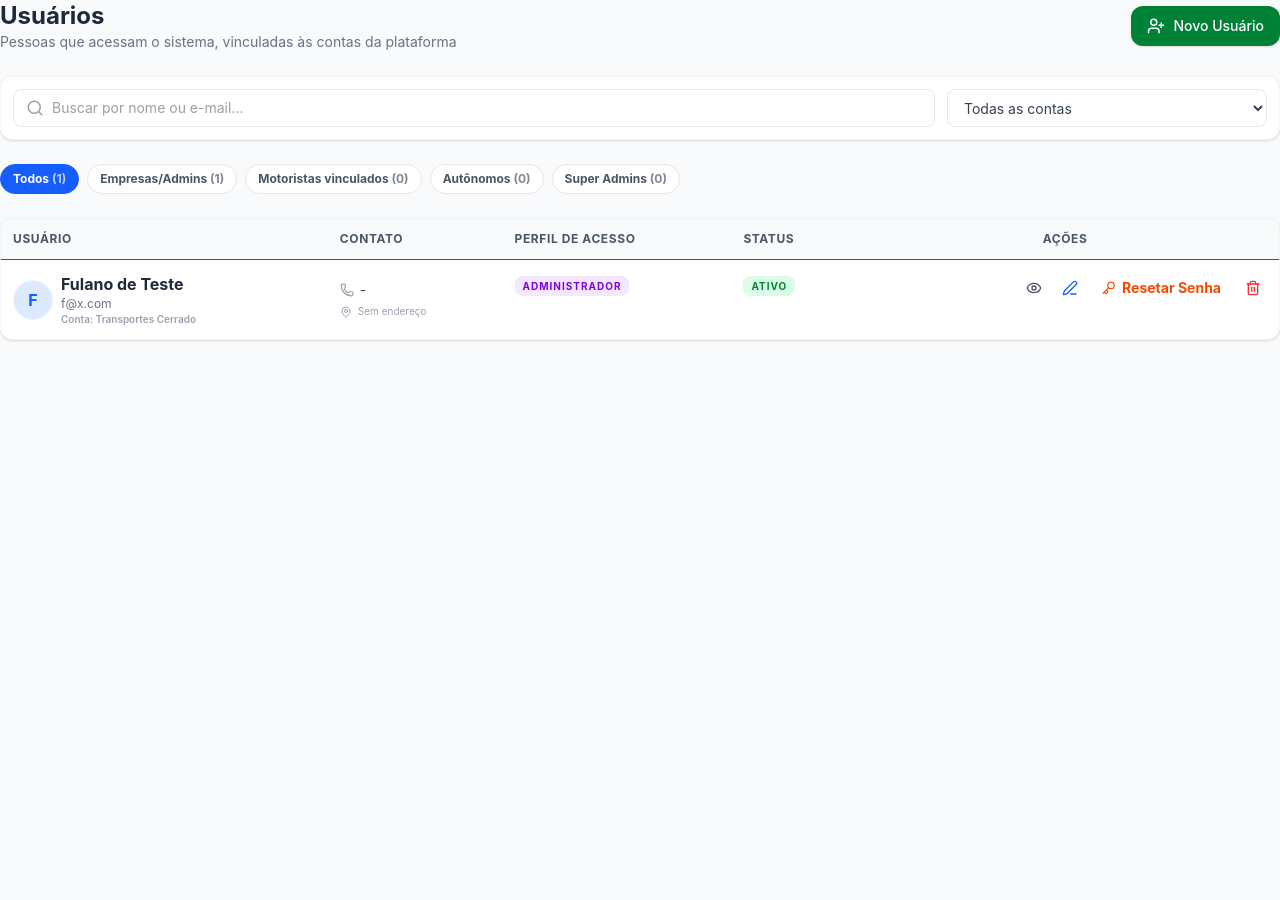
Usuarios — correção da aceitação visual › TEAM-VIS-01: digitar mostra resultados filtrados; escolher fecha a lista
Expected: the text "Fulano de Teste" is shown, [61, 272, 196, 296]
Click the button "Novo Usuário".
click(1206, 26)  # box [1132, 6, 1279, 46]
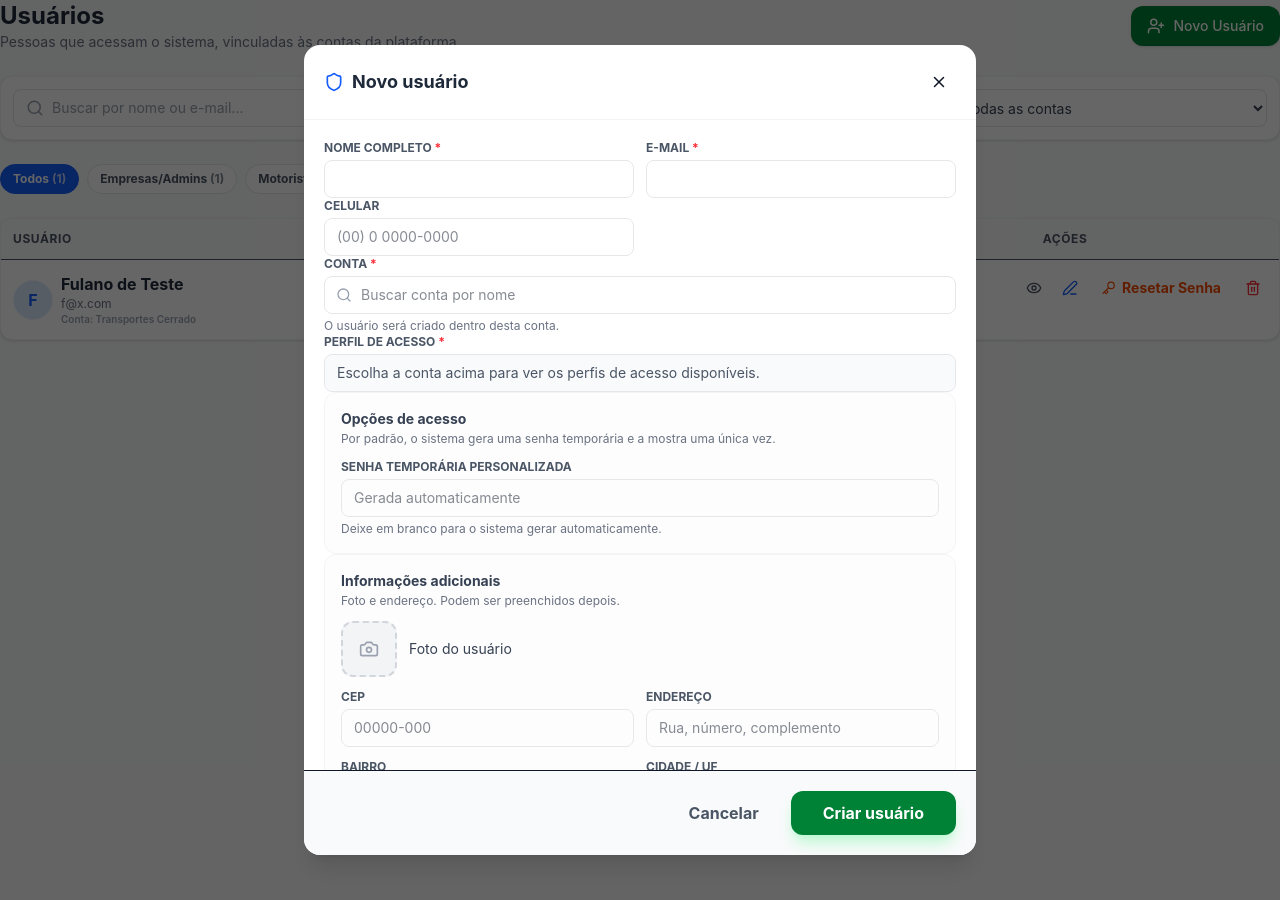
Type "cerrado" into the dropdown labelled "Buscar conta por nome".
click(640, 295); type("cerrado")  # box [324, 276, 956, 314]
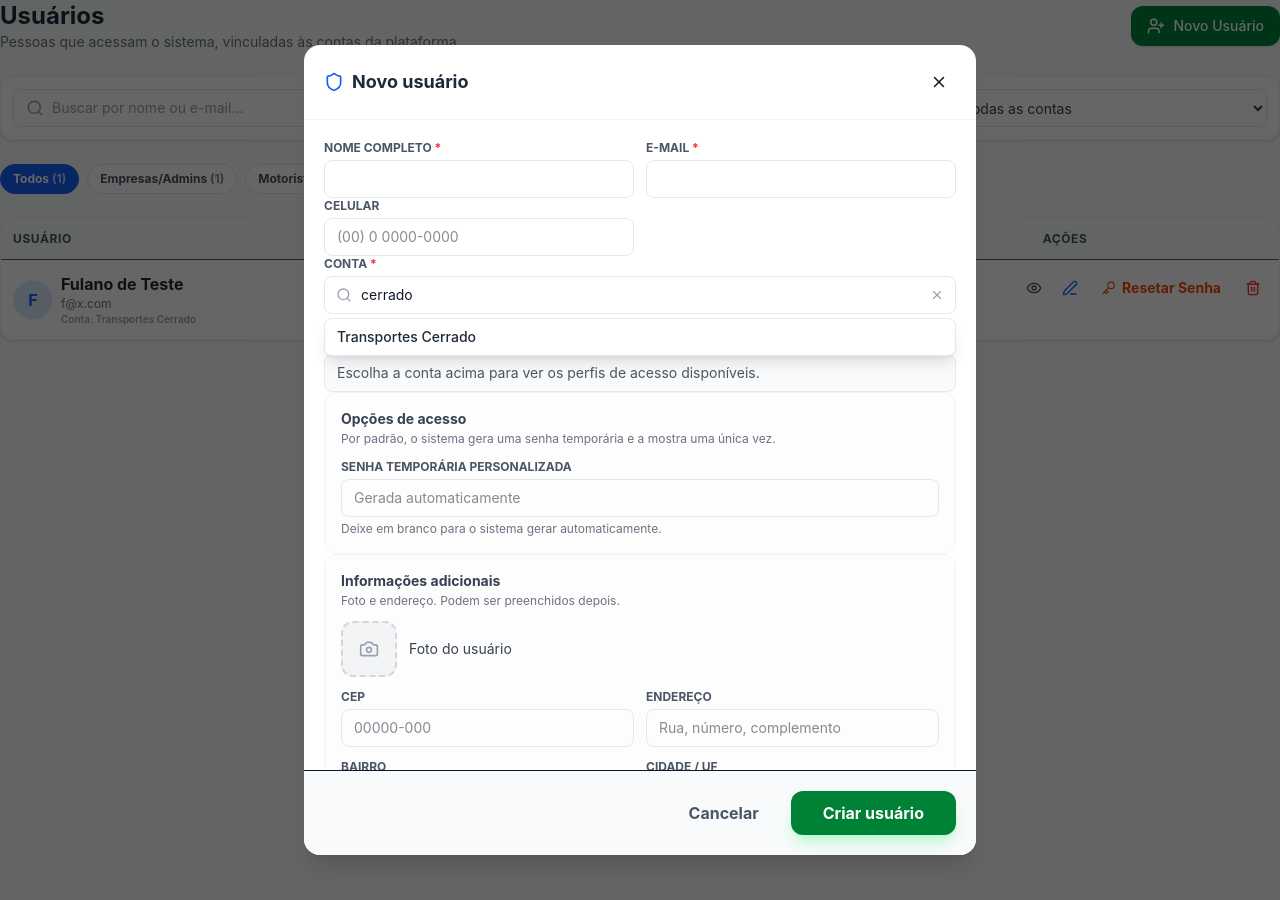
Click the option "Transportes Cerrado".
click(406, 336)  # box [325, 319, 955, 355]
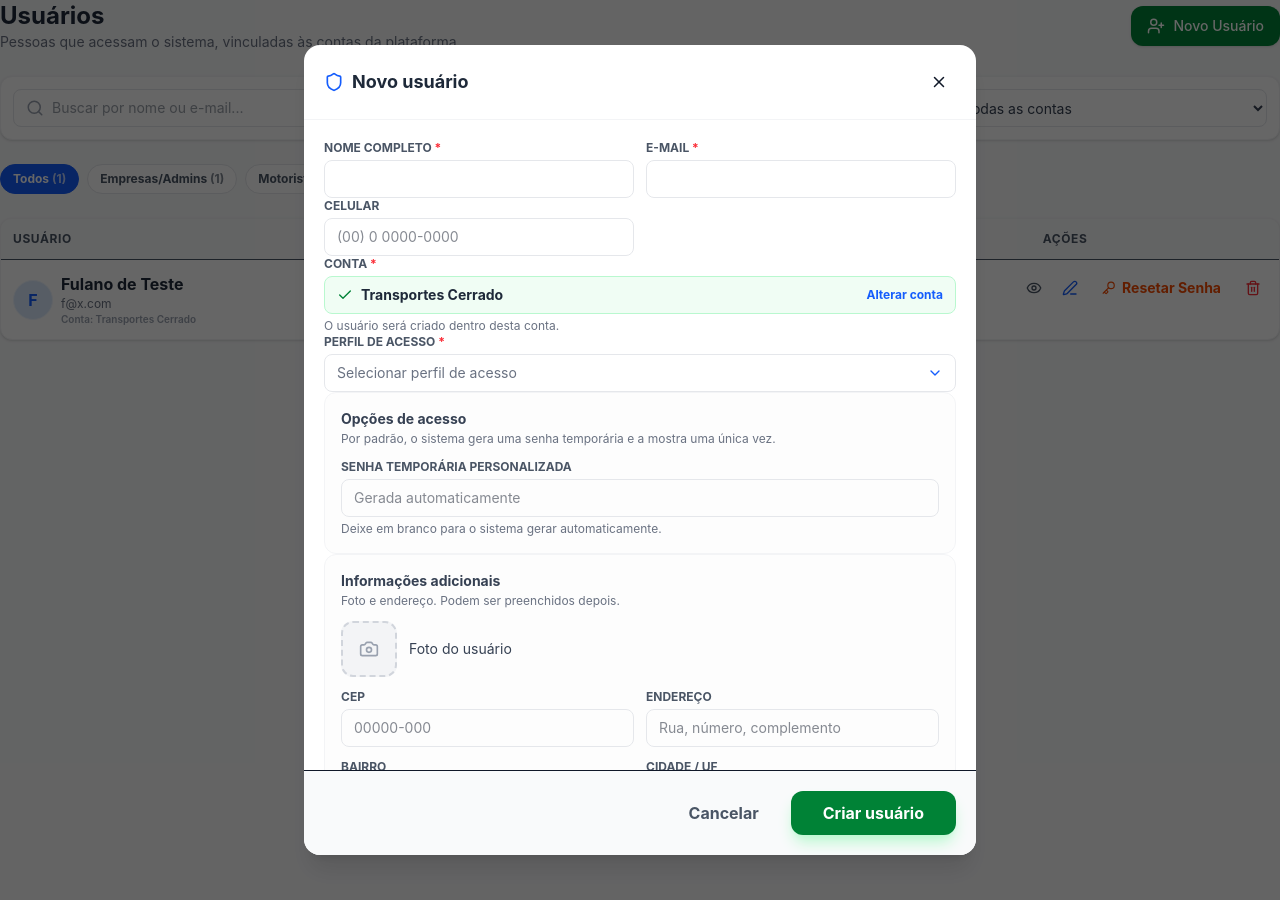
Result: the text "Transportes Cerrado" is shown at [361, 285, 503, 305]
Result: the list is gone
Result: the button "Alterar conta" is shown at [866, 287, 943, 303]
